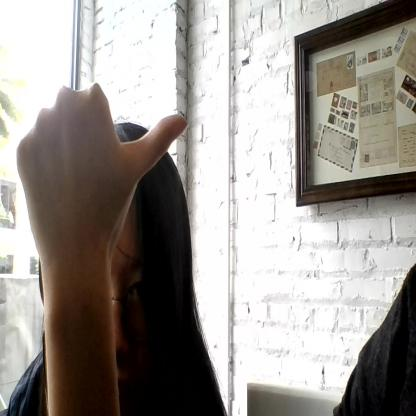left: (16, 82, 190, 222)
